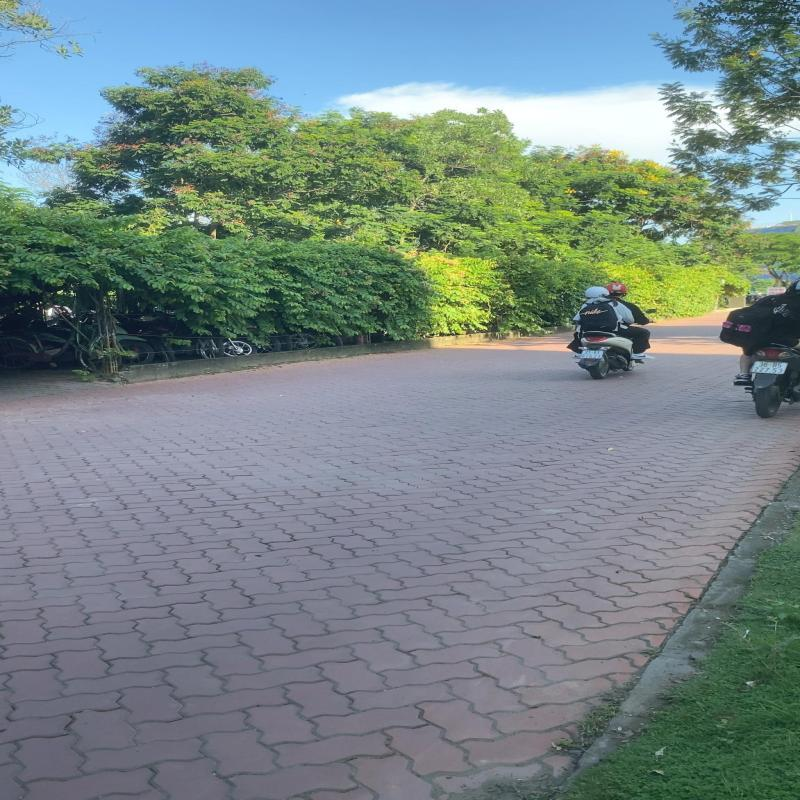helmet: (584, 286, 610, 298), (606, 282, 628, 294)
licenseplate: (580, 350, 603, 359)
motorcyclist: (572, 282, 654, 380)
